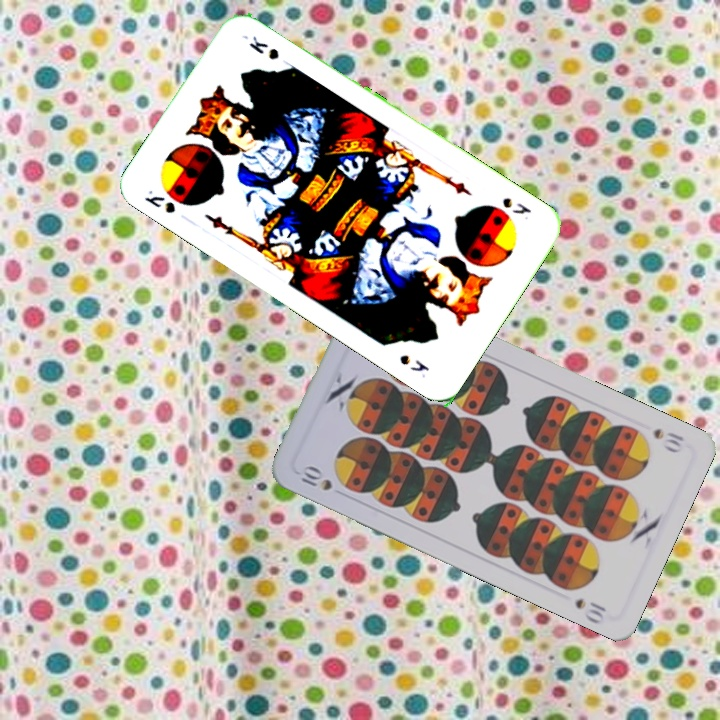S10: (294, 461, 335, 494), (649, 424, 687, 456)
SK: (140, 186, 178, 216), (498, 193, 534, 217)
